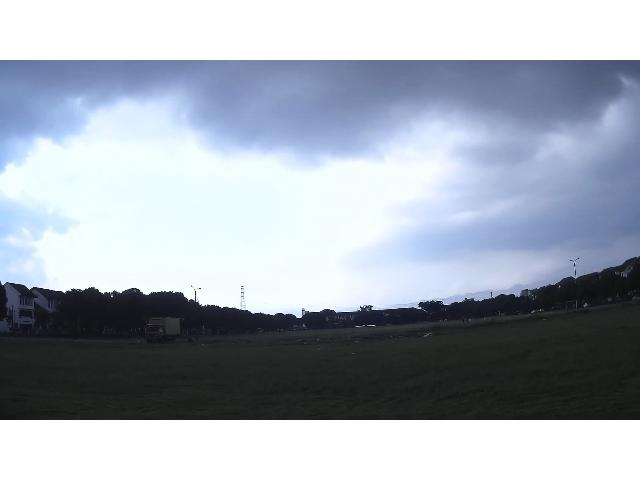Anti-Drone: (352, 315, 382, 331)
